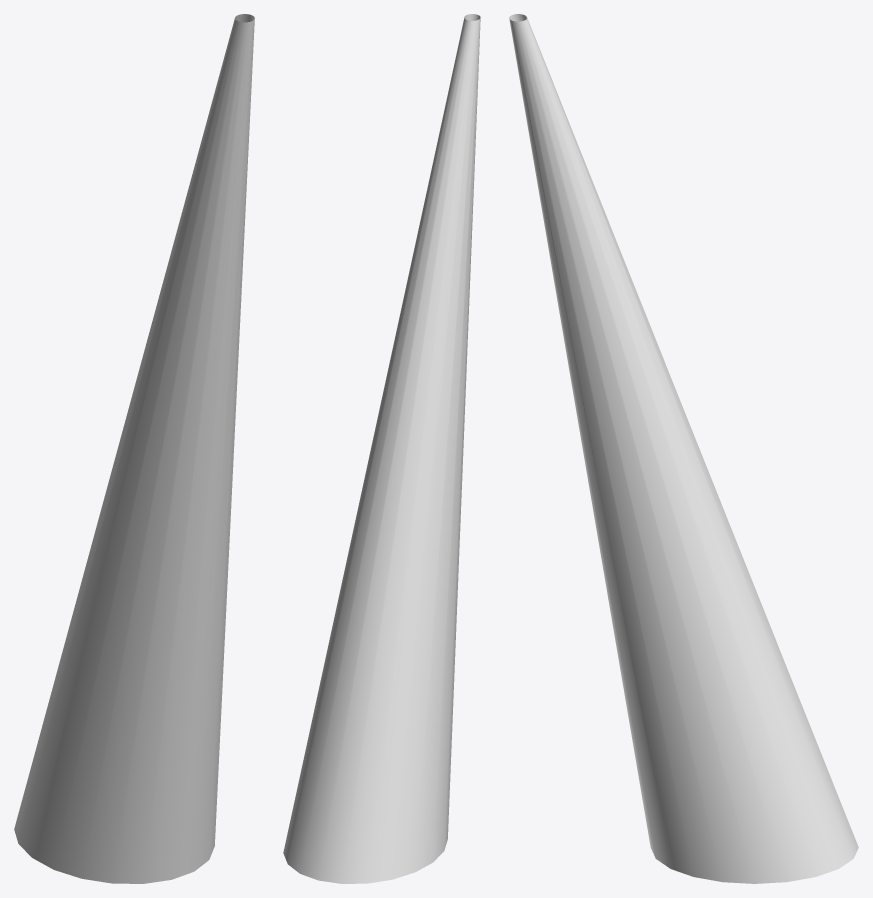
File: beam_vrs3.fbx
3 views of the same model, side by side, from view 1: azimuth 30°, elevation 25°; view 2: azimuth 150°, elevation 25°; view 3: azimuth 270°, elevation 25° (orthographic). The views are drawn at different scales.
Parts seen in each view (by area): view 1: polySurface4; view 2: polySurface4; view 3: polySurface4.
Boxes of the visible parts, x1,y1,x2,y2 form: polySurface4: [14, 14, 254, 883]; polySurface4: [283, 14, 480, 883]; polySurface4: [509, 14, 858, 883].
Bounding box in the file's own units: 2 × 10.62 × 4.06.
1 material, 1 textured.
